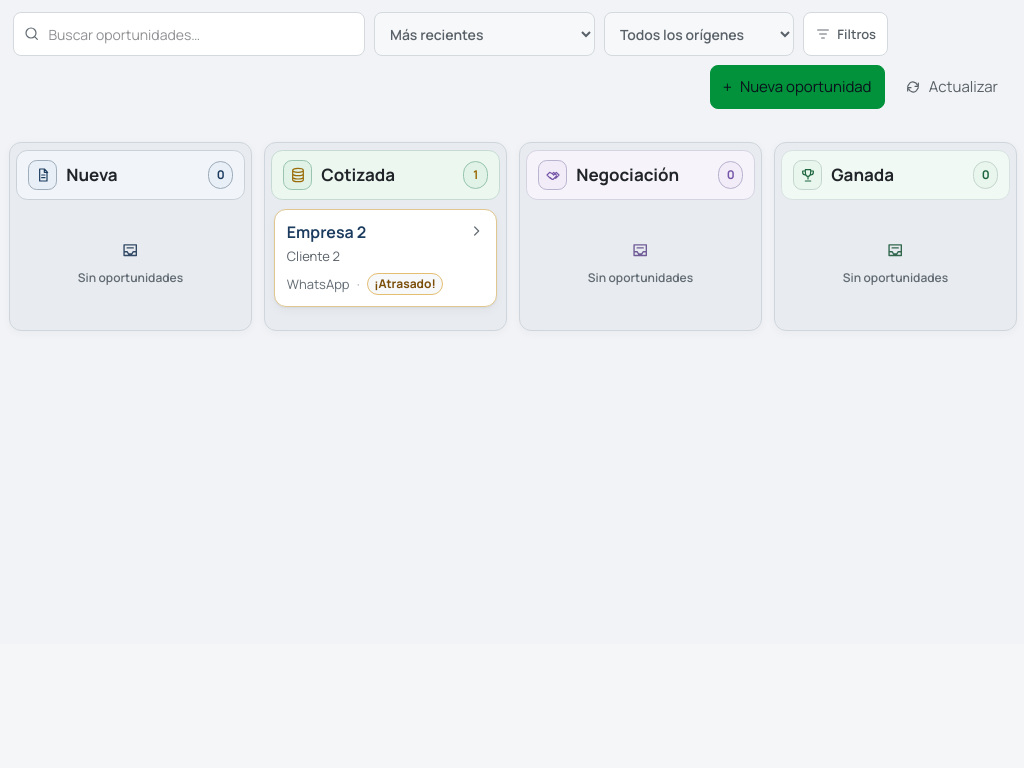
Test: PipelinePage › keeps failed-stage data and reports a truthful partial manual refresh
Expected: the heading "Nueva" is shown, [66,163,118,187]
Click the button "Actualizar": point(951, 87) [892,65,1011,109]
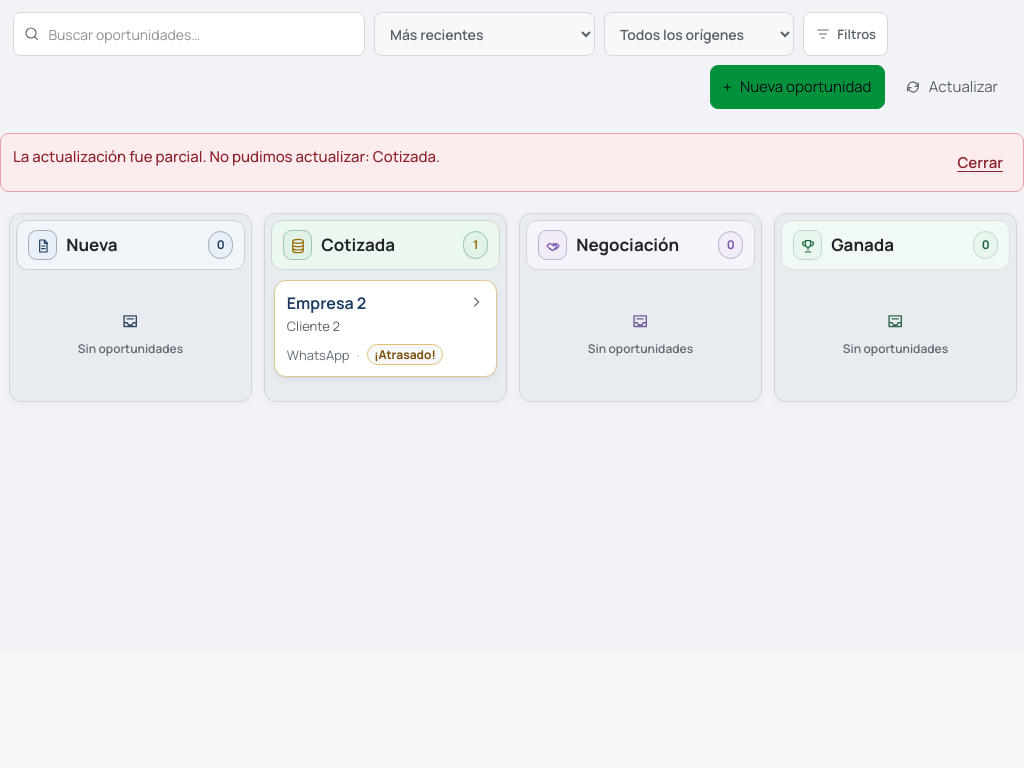
Expected: the text "Empresa 2" is shown, [287,292,366,314]
Expected: the message shows "La actualización fue parcial. No pudimos actualizar: Cotizada.", [13,146,440,167]
